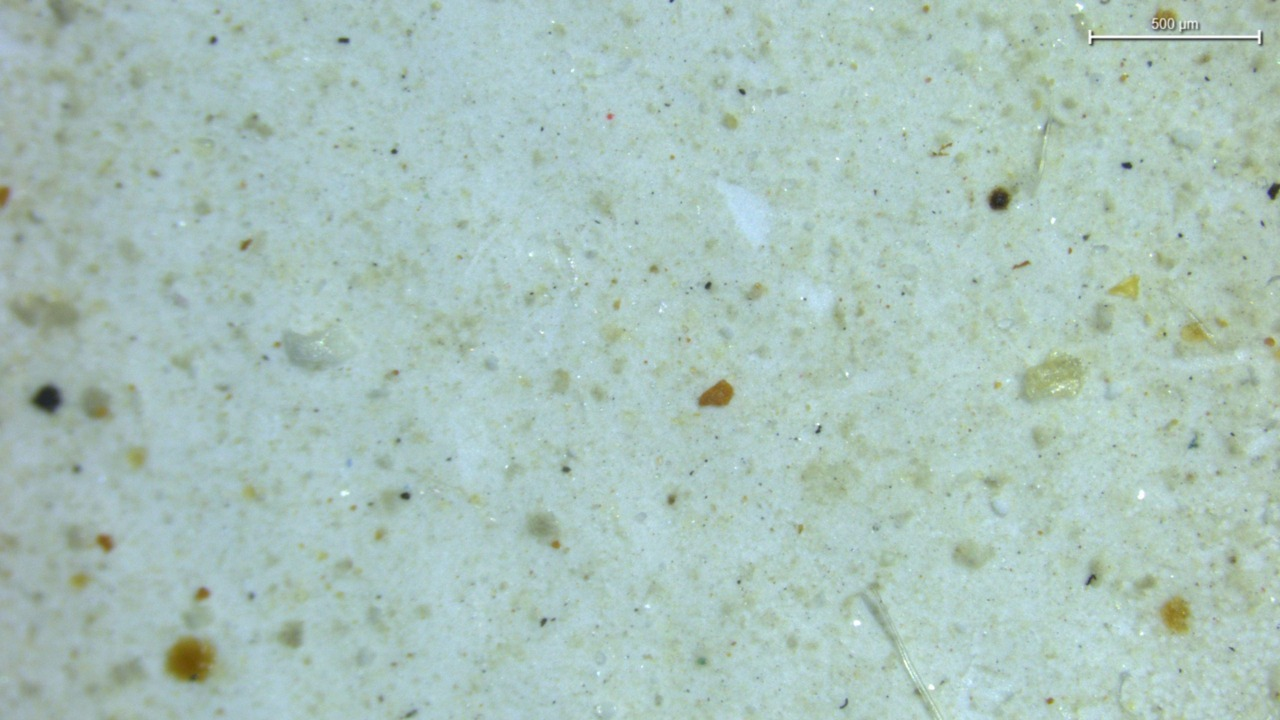microplastic_fragment: (282, 327, 354, 369), (1022, 352, 1084, 400)
